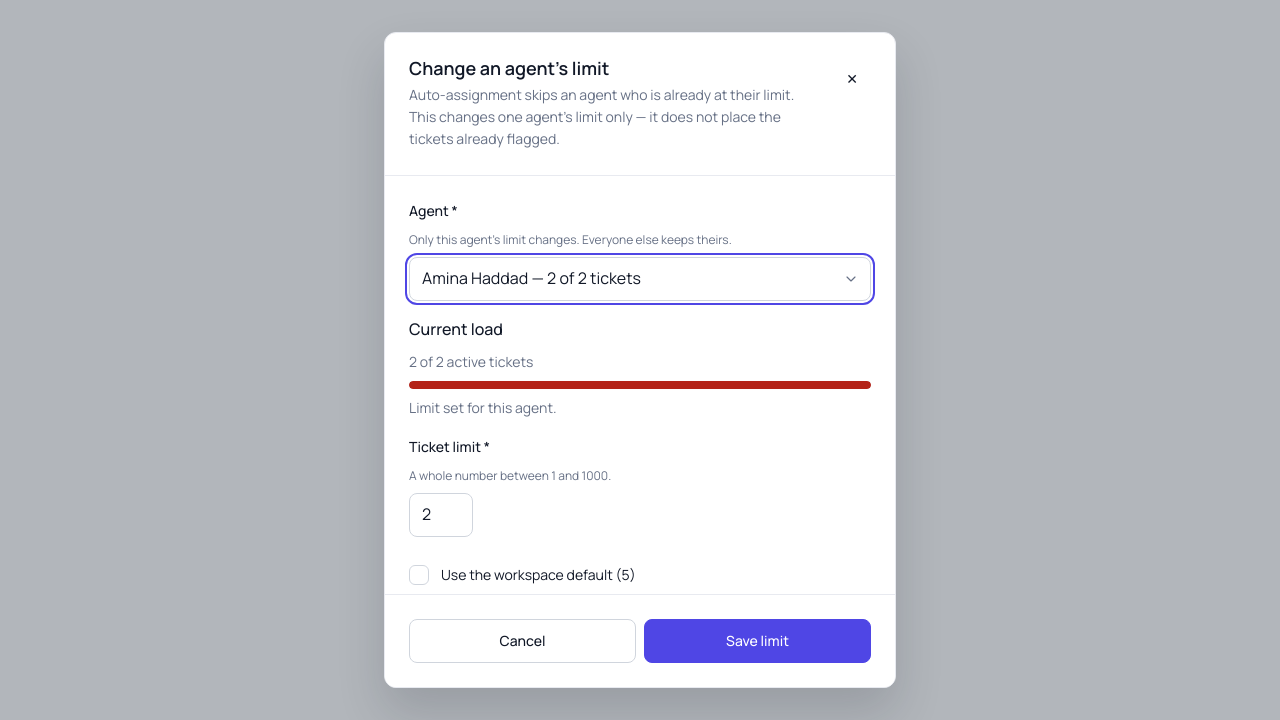
Test: AgentCapacityDialog › keeps the API’s message and the submit for a retryable failure
Replace the text in the number field labelled "Ticket limit *" with "4" at (441, 515), box [409,493,473,537]
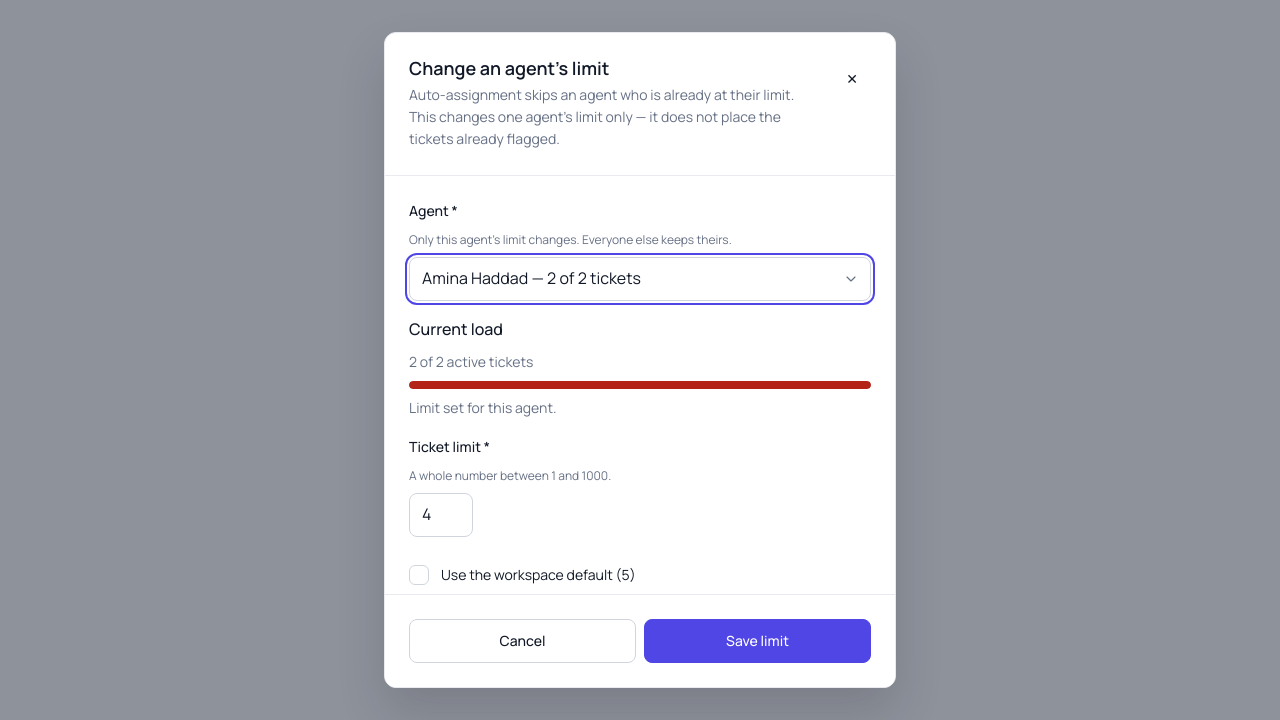
Click the button "Save limit".
click(758, 641)  # box [644,619,871,663]
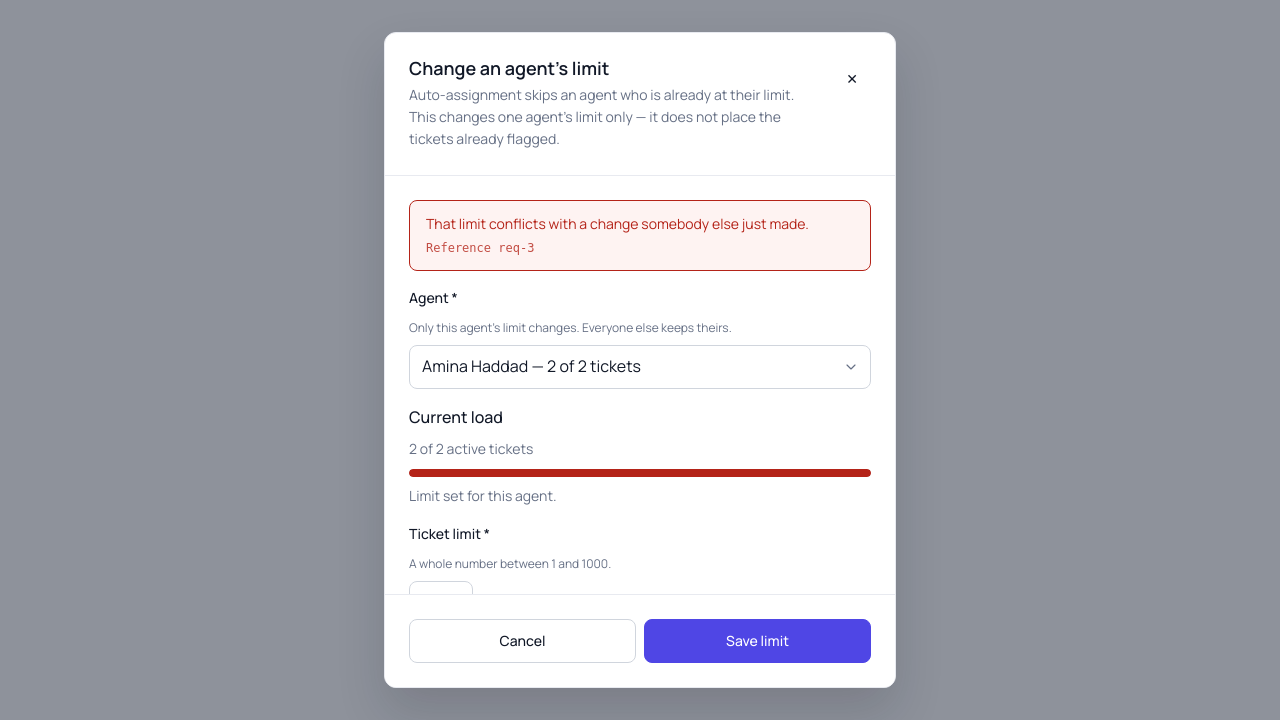
expect the text "That limit conflicts with a change somebody else just made." is shown: met, box [426,213,854,235]
